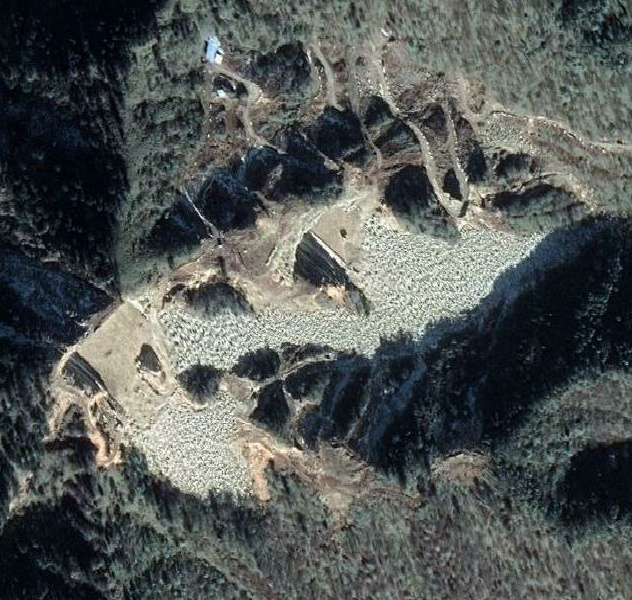slope: (78, 299, 393, 530), (268, 144, 400, 295), (168, 239, 270, 321), (432, 446, 495, 499)
